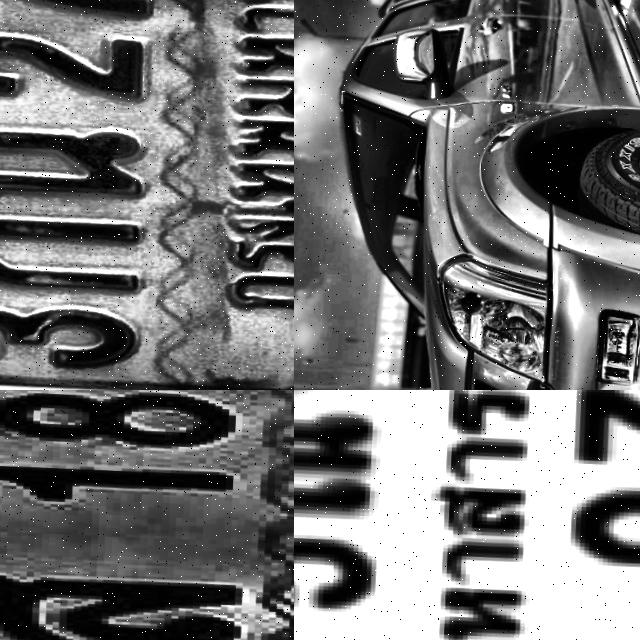license-plate: (0, 0, 294, 390), (294, 390, 640, 640), (0, 390, 294, 640)
